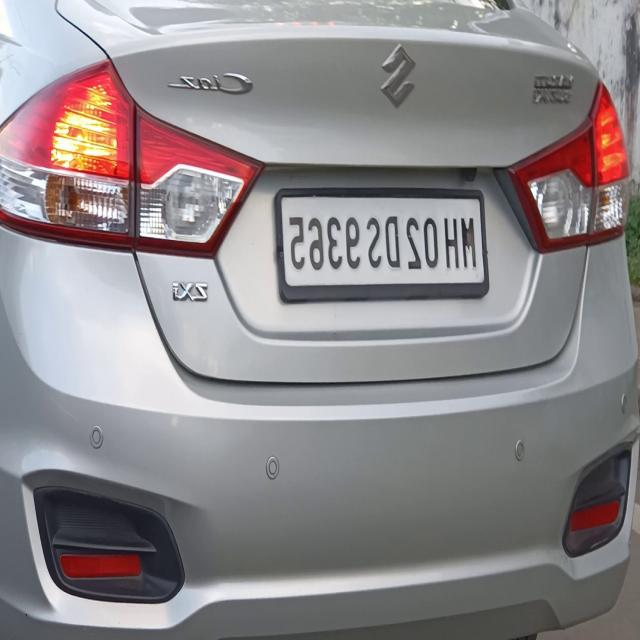license_plate: (271, 179, 489, 314)
